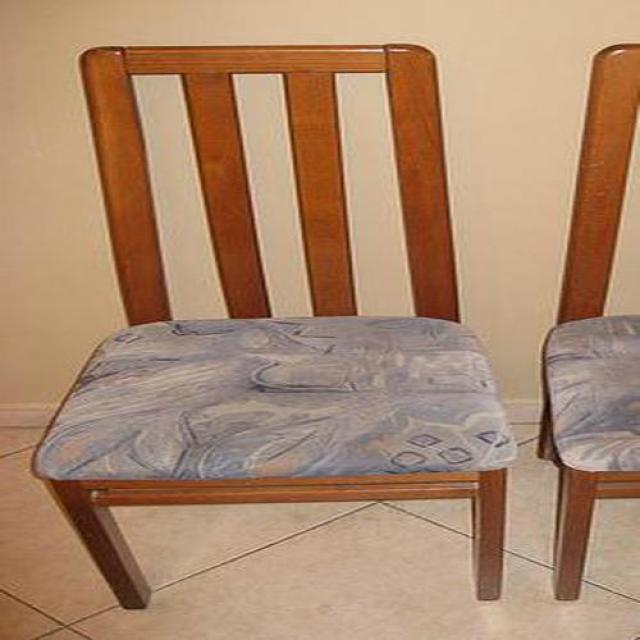chair: (32, 45, 520, 612)
